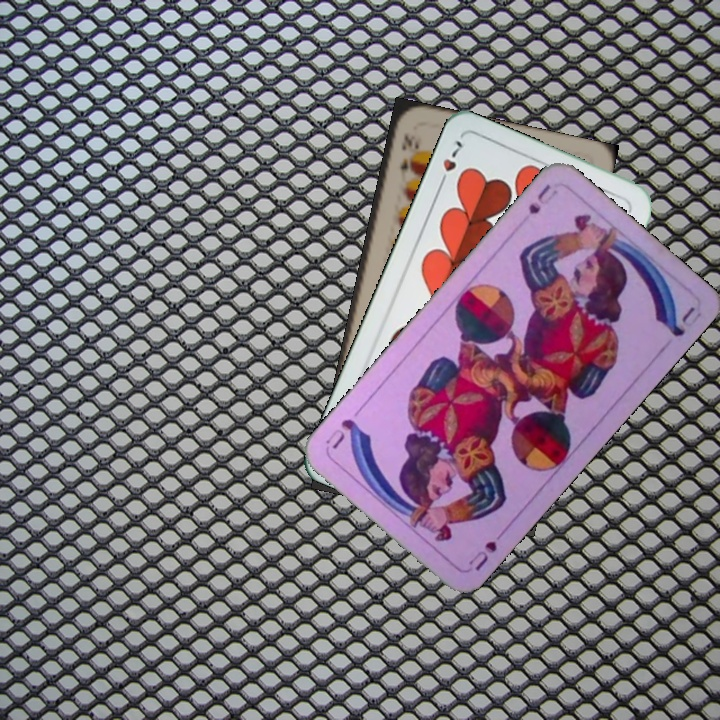E10: (395, 129, 421, 185)
H7: (434, 136, 465, 191)
SU: (464, 525, 509, 574), (524, 179, 561, 217)
